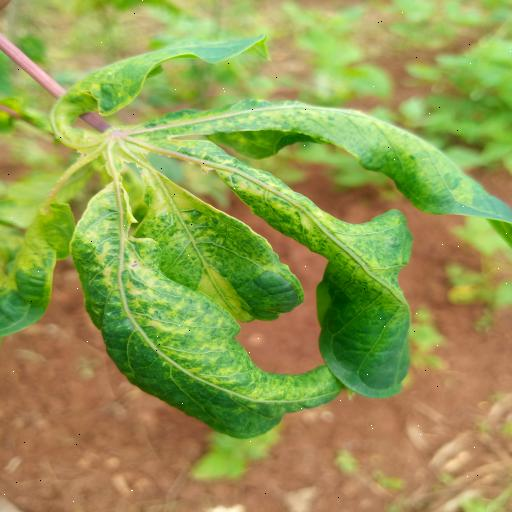Cassava_Mosaic: (0, 35, 512, 439)
